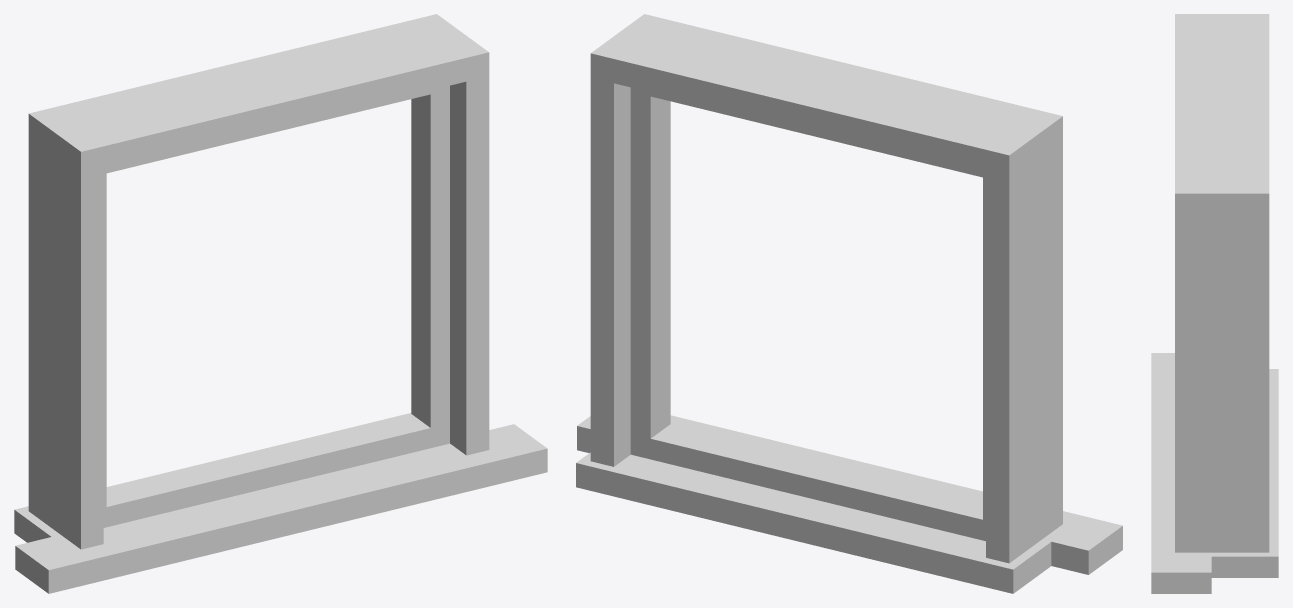
File: Window5_04.fbx
The picture shows the model from 3 angles, left to right: view 1: azimuth 30°, elevation 25°; view 2: azimuth 150°, elevation 25°; view 3: azimuth 270°, elevation 25°; orthographic projection. The views are drawn at different scales.
Parts seen in each view (by area): view 1: Window5_04; view 2: Window5_04; view 3: Window5_04.
Part boxes in pixels (x1=…): Window5_04: x1=14, y1=14, x2=547, y2=593; Window5_04: x1=576, y1=14, x2=1122, y2=593; Window5_04: x1=1151, y1=14, x2=1278, y2=593.
Size of the model in its own units: 1.1 by 0.8881 by 0.27.
